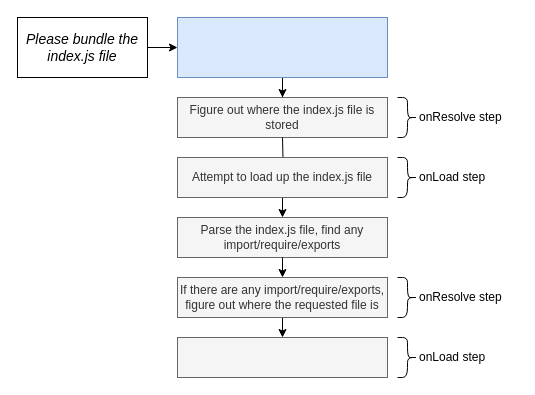
This 535x395 diagram has some shape labels left out. Each missing label, with the centre of its shape:
Attempt to load that file up: [282,357]
ESBuild Bundling Process: [282,47]
